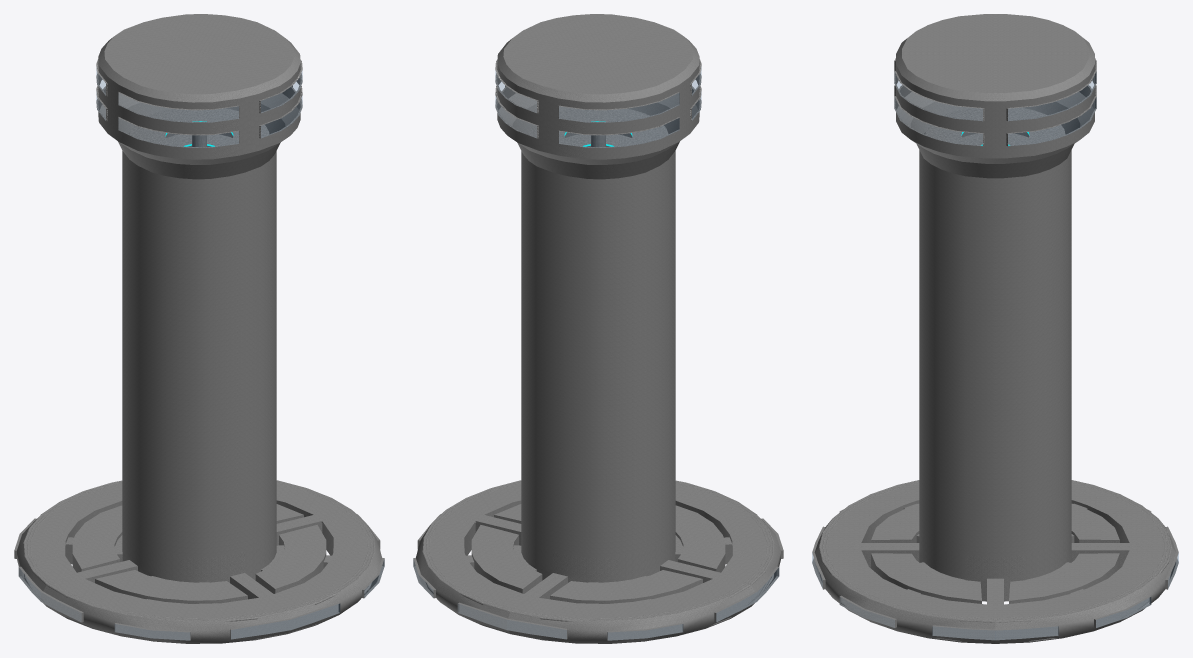
Rendered from main level (spacestation).fbx.
3 views of the same model, side by side, from view 1: azimuth 30°, elevation 25°; view 2: azimuth 150°, elevation 25°; view 3: azimuth 270°, elevation 25° (orthographic).
Parts seen in each view (by area): view 1: floor1, platforming tower; view 2: floor1, platforming tower; view 3: floor1, platforming tower.
Boxes of the visible parts, left/top/right/bottom form: floor1: left=14, top=14, right=384, bottom=643; platforming tower: left=129, top=108, right=269, bottom=146; floor1: left=413, top=14, right=783, bottom=643; platforming tower: left=528, top=108, right=668, bottom=146; floor1: left=812, top=14, right=1178, bottom=643; platforming tower: left=925, top=107, right=1065, bottom=145.
Bounding box in the file's own units: 4794 × 7493 × 4794.
